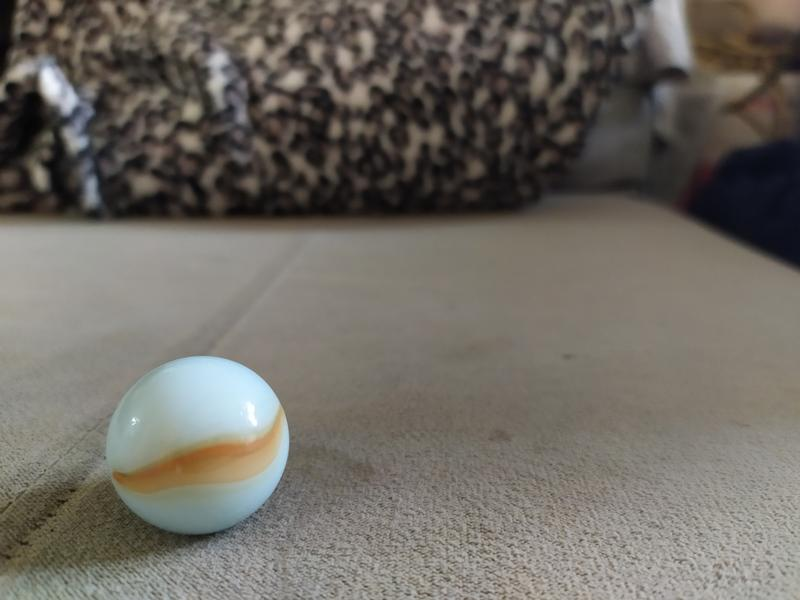Warning: (98, 348, 297, 541)
